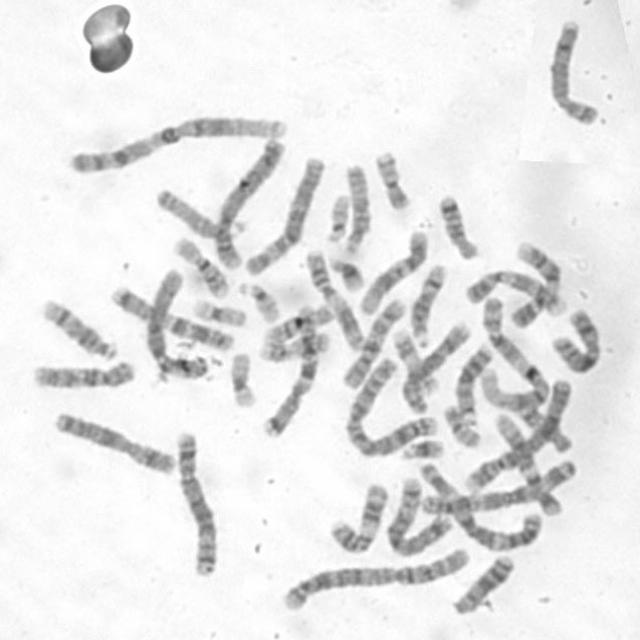A1: (62, 106, 290, 178), (476, 291, 552, 413)
A2: (276, 540, 474, 614), (341, 351, 444, 458)
A3: (413, 454, 546, 553), (416, 453, 579, 518)
B4: (459, 373, 575, 494), (207, 132, 289, 274)
B5: (170, 425, 222, 580), (382, 469, 456, 556)
C10: (337, 293, 408, 391), (28, 354, 139, 390)
C11: (301, 245, 369, 352), (323, 477, 391, 555)
C12: (490, 407, 566, 518), (355, 224, 431, 317)
C6: (240, 149, 328, 277), (141, 265, 213, 382)
C7: (257, 301, 327, 440), (106, 280, 235, 353)
C8: (396, 315, 473, 415), (543, 12, 602, 128)
C9: (460, 264, 569, 318), (506, 236, 565, 328)
D13: (448, 548, 518, 618), (451, 339, 495, 425)
D14: (36, 292, 121, 362), (407, 258, 450, 348)
D15: (152, 182, 251, 240), (338, 157, 374, 259)
E16: (170, 232, 233, 299), (259, 300, 337, 346)
E17: (387, 322, 441, 398), (254, 327, 335, 364)
E18: (511, 398, 577, 456), (433, 188, 481, 262)
F19: (225, 346, 260, 410), (189, 293, 250, 328)
F20: (370, 144, 414, 211), (438, 399, 484, 449)
G21: (324, 251, 366, 293), (396, 432, 447, 462)
G22: (234, 276, 282, 323), (322, 188, 354, 244)
X: (48, 406, 179, 476), (546, 302, 605, 376)
